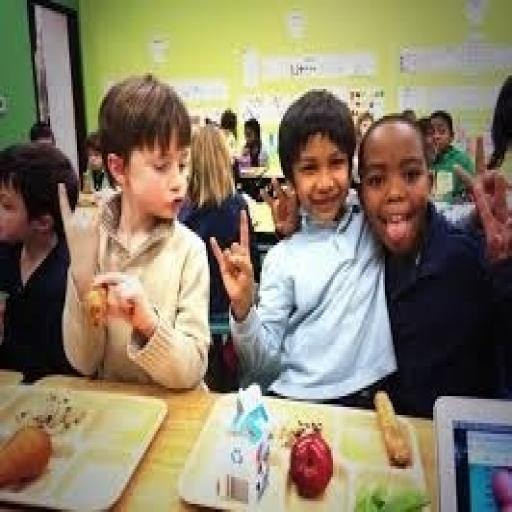eating: (2, 70, 508, 410)
